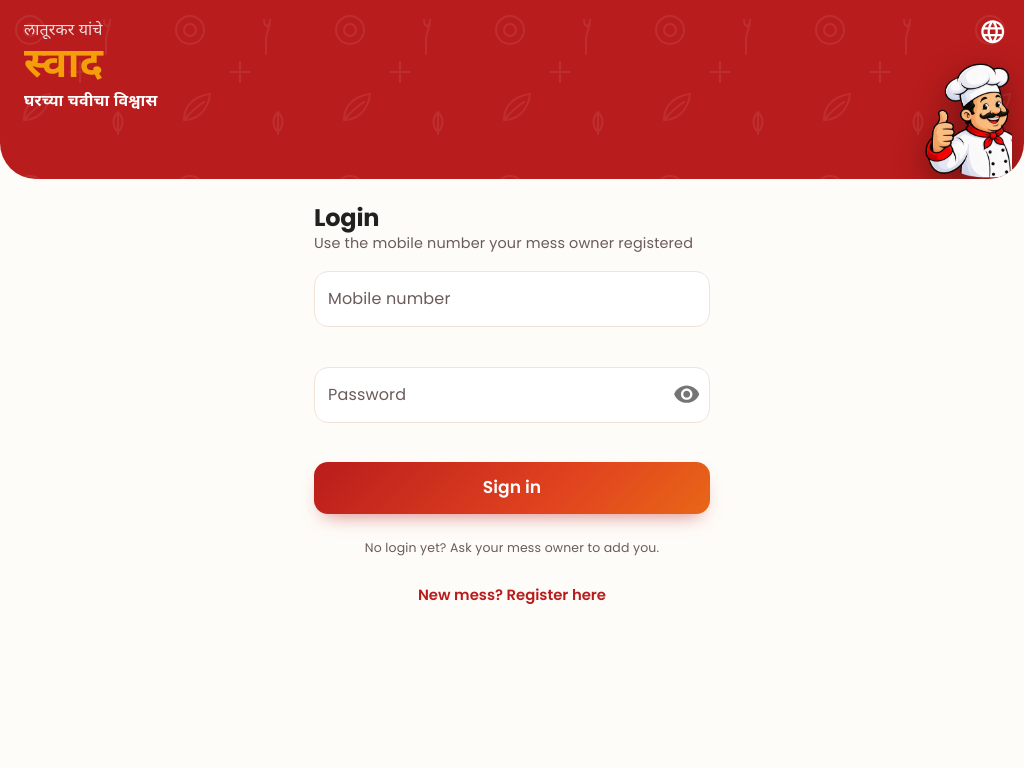
Test case: LoginPage › shows invalid credentials error
The width and height of the screenshot is (1024, 768).
In the field labelled "Mobile number": [512, 299] box [314, 271, 710, 327], type "9876543210"
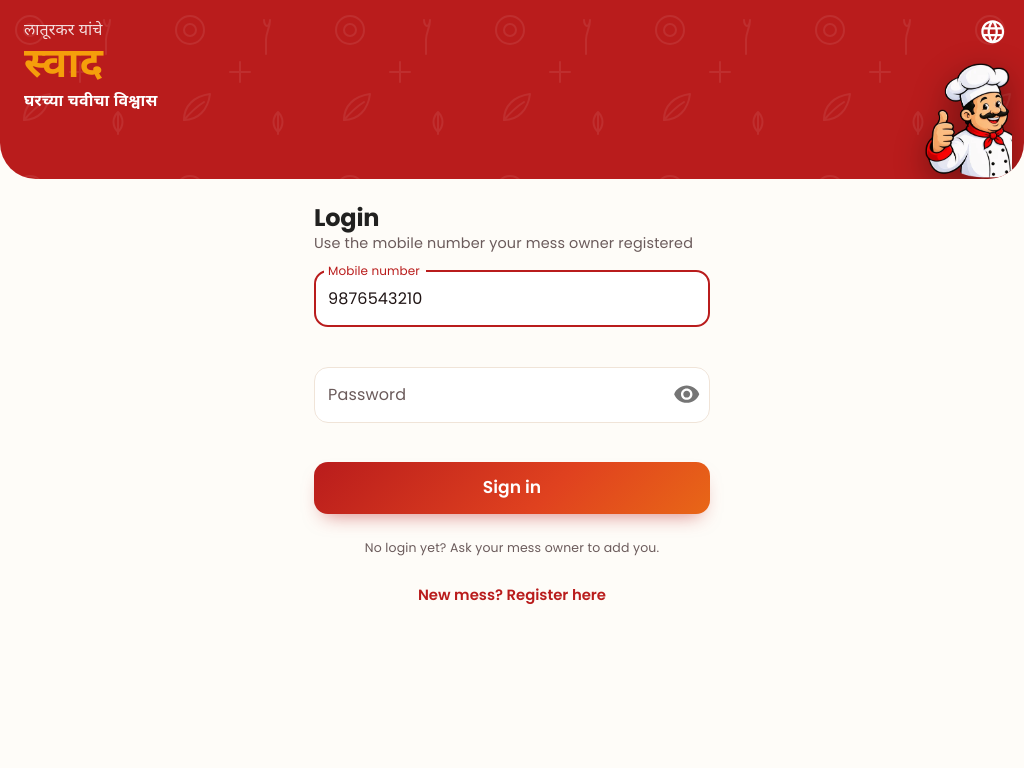
In the password field labelled "Password": [485, 395] box [314, 367, 657, 423], type "wrong1"
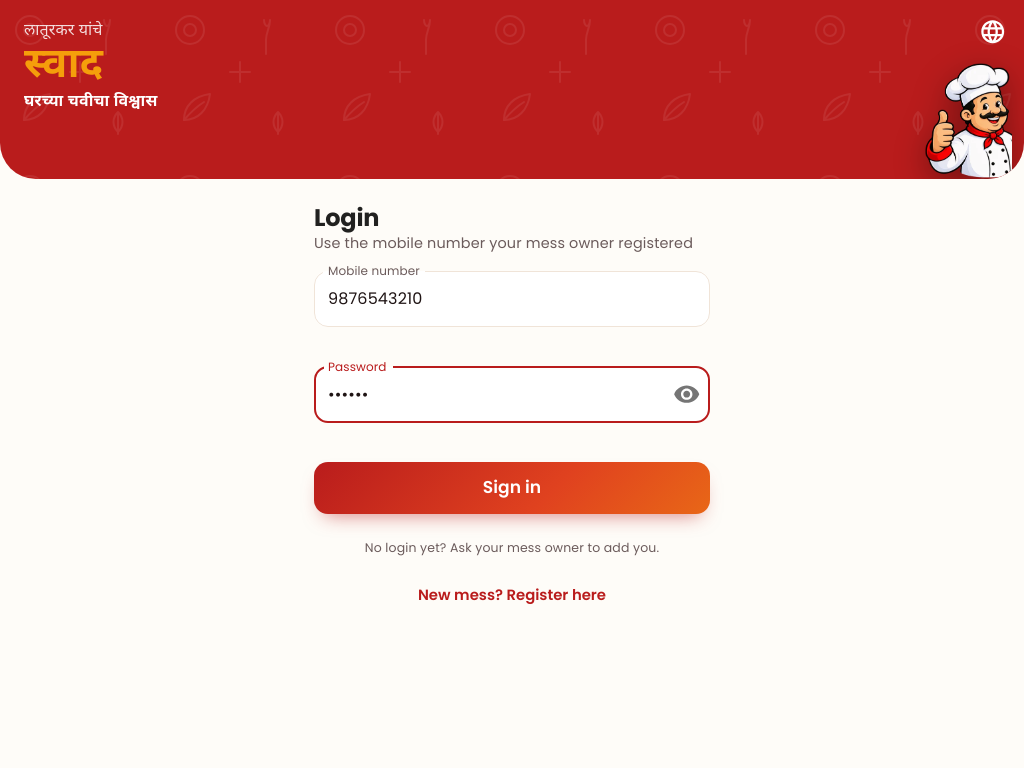
Click the button "Sign in": [512, 488] box [314, 462, 710, 514]
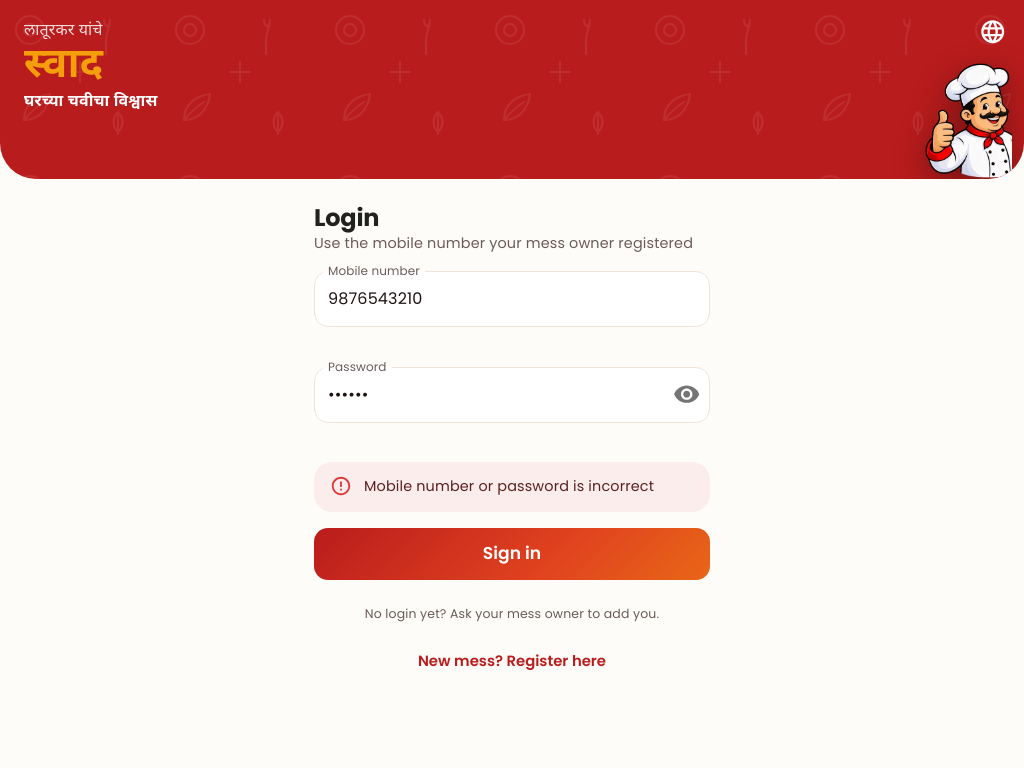
Expected: the text "Mobile number or password is incorrect" is shown, [364, 476, 654, 496]
